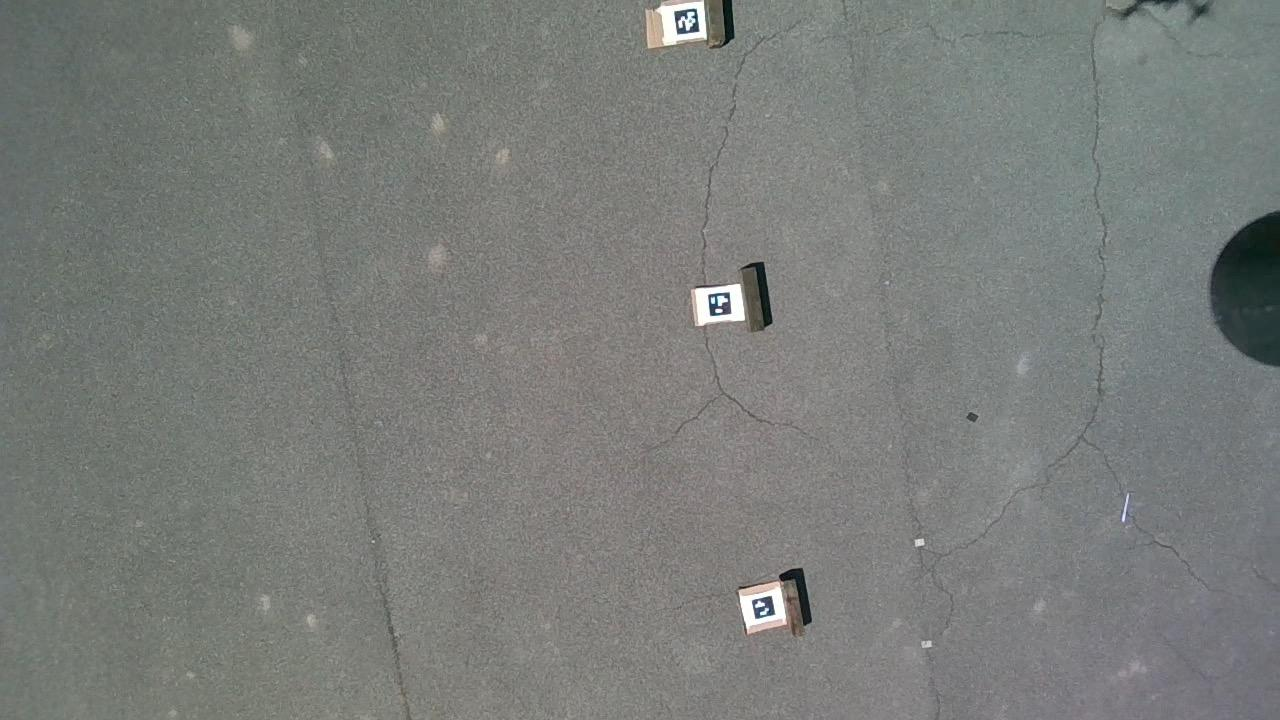probes: (1120, 493, 1130, 523)
